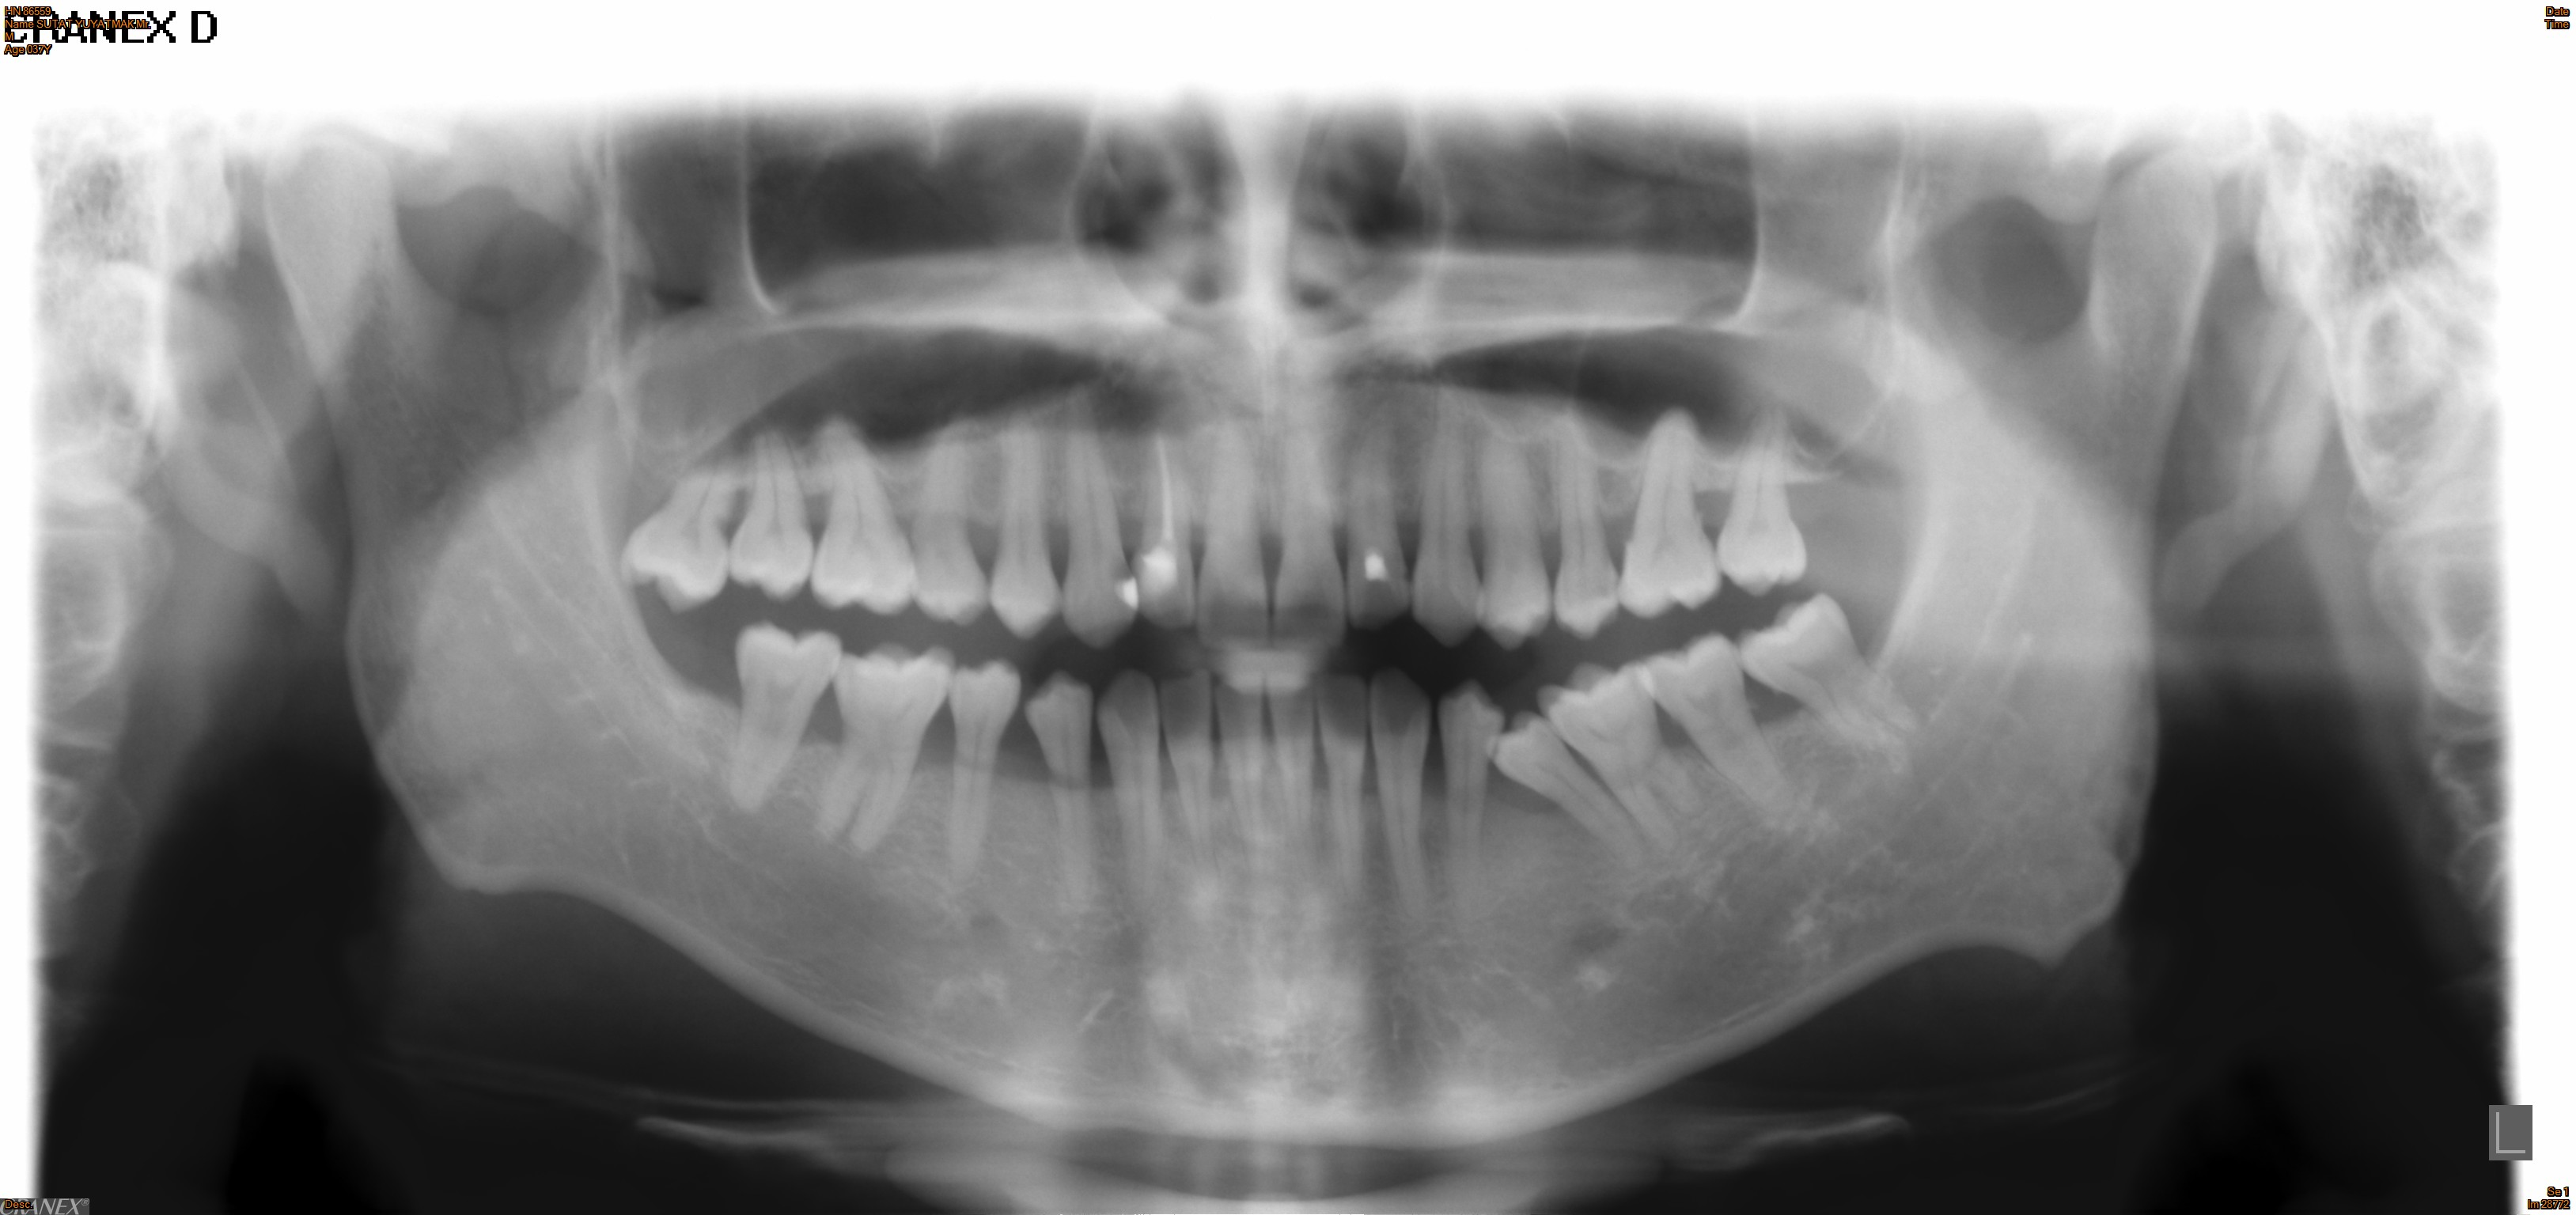periodontitis: (1633, 632, 1825, 846), (1525, 657, 1705, 855), (808, 639, 969, 859), (1474, 711, 1658, 877), (790, 402, 922, 627), (713, 616, 851, 826), (1608, 399, 1728, 632), (1043, 407, 1142, 663), (1022, 663, 1111, 929), (1360, 655, 1442, 941), (1536, 391, 1625, 653), (715, 409, 828, 607), (1710, 392, 1815, 604), (974, 394, 1060, 653), (941, 649, 1032, 888), (1429, 673, 1511, 933), (902, 412, 994, 632)
